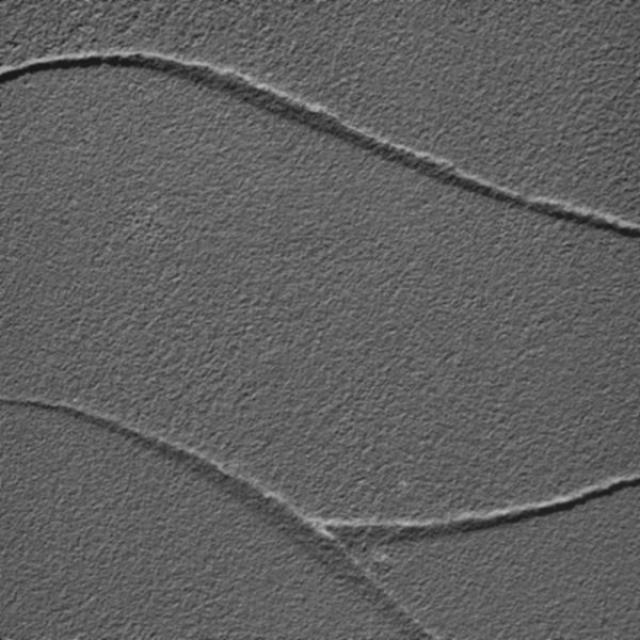trowels marks: (3, 379, 640, 640), (0, 34, 640, 252)
